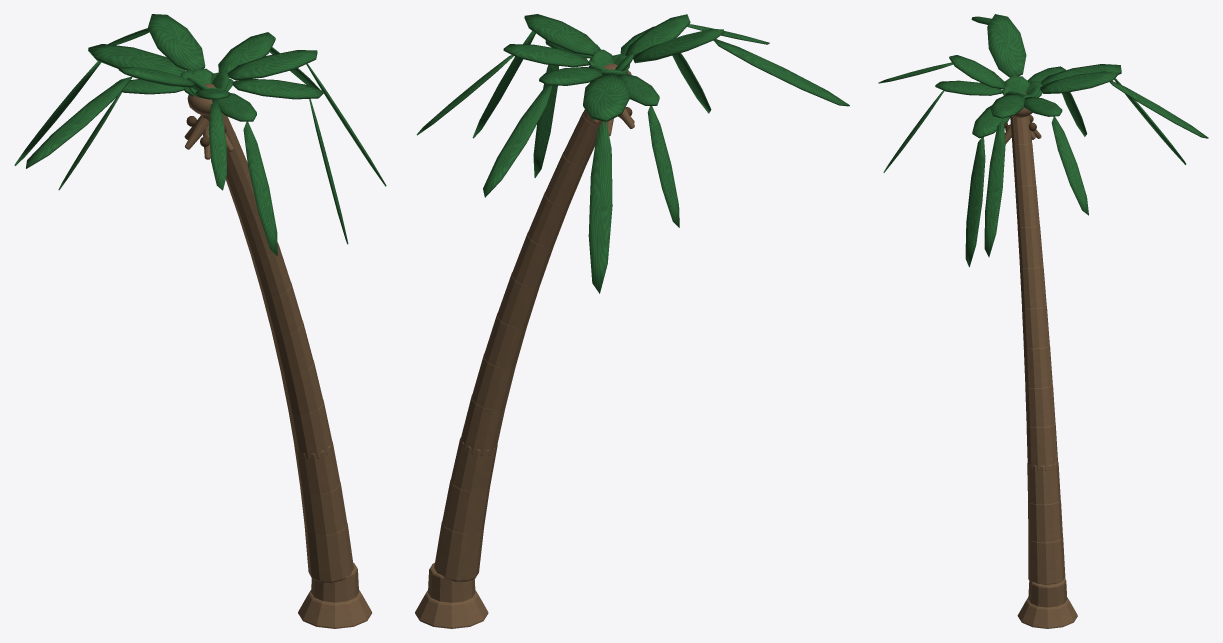
File: palm_tall.glb
The picture shows the model from 3 angles, left to right: view 1: azimuth 30°, elevation 25°; view 2: azimuth 150°, elevation 25°; view 3: azimuth 270°, elevation 25°; orthographic projection. The views are drawn at different scales.
Parts seen in each view (by area): view 1: palm_tall_trunk1, palm_tall_frond2_s1, palm_tall_root_flare, palm_tall_frond7_s2, palm_tall_frond5_s2, palm_tall_trunk2, palm_tall_trunk4, palm_tall_trunk3, palm_tall_frond3_s1, palm_tall_frond0_s1, palm_tall_trunk5, palm_tall_trunk6 (+15 smaller); view 2: palm_tall_frond3_s2, palm_tall_trunk1, palm_tall_frond2_s2, palm_tall_root_flare, palm_tall_trunk2, palm_tall_frond3_s1, palm_tall_trunk4, palm_tall_trunk3, palm_tall_frond0_s1, palm_tall_trunk5, palm_tall_frond5_s2, palm_tall_frond4_s2 (+16 smaller); view 3: palm_tall_frond5_s1, palm_tall_frond0_s2, palm_tall_trunk1, palm_tall_frond8_s2, palm_tall_trunk2, palm_tall_trunk3, palm_tall_root_flare, palm_tall_trunk4, palm_tall_frond1_s2, palm_tall_trunk5, palm_tall_trunk6, palm_tall_trunk7 (+14 smaller).
Part boxes in pixels (box(x1,y1,x2,y2)): palm_tall_trunk1: box(304, 523, 353, 582); palm_tall_frond2_s1: box(148, 14, 205, 70); palm_tall_root_flare: box(298, 590, 371, 628); palm_tall_frond7_s2: box(243, 121, 277, 256); palm_tall_frond5_s2: box(26, 76, 132, 168); palm_tall_trunk2: box(300, 482, 347, 535); palm_tall_trunk4: box(288, 399, 332, 459); palm_tall_trunk3: box(294, 440, 340, 494); palm_tall_frond3_s1: box(88, 44, 185, 76); palm_tall_frond0_s1: box(227, 50, 317, 80); palm_tall_trunk5: box(280, 360, 322, 415); palm_tall_trunk6: box(272, 321, 313, 376); palm_tall_frond3_s2: box(588, 121, 612, 293); palm_tall_trunk1: box(434, 521, 483, 581); palm_tall_frond2_s2: box(483, 85, 552, 197); palm_tall_root_flare: box(415, 590, 488, 628); palm_tall_trunk2: box(442, 479, 489, 533); palm_tall_frond3_s1: box(583, 73, 629, 121); palm_tall_trunk4: box(460, 395, 505, 456); palm_tall_trunk3: box(451, 437, 497, 492); palm_tall_frond0_s1: box(524, 14, 599, 55); palm_tall_trunk5: box(472, 353, 515, 410); palm_tall_frond5_s2: box(713, 39, 849, 106); palm_tall_frond4_s2: box(647, 106, 679, 227); palm_tall_frond5_s1: box(987, 14, 1026, 77); palm_tall_frond0_s2: box(984, 118, 1005, 257); palm_tall_trunk1: box(1028, 537, 1065, 584); palm_tall_frond8_s2: box(965, 137, 985, 267); palm_tall_trunk2: box(1028, 500, 1062, 542); palm_tall_trunk3: box(1027, 461, 1060, 504); palm_tall_root_flare: box(1017, 597, 1077, 628); palm_tall_trunk4: box(1026, 423, 1057, 470); palm_tall_frond1_s2: box(1051, 116, 1088, 215); palm_tall_trunk5: box(1025, 385, 1055, 427); palm_tall_trunk6: box(1023, 346, 1052, 388); palm_tall_trunk7: box(1022, 306, 1049, 348).
Size of the model in its own units: 7.14 by 11.01 by 6.51.
3 materials, 3 textured.
